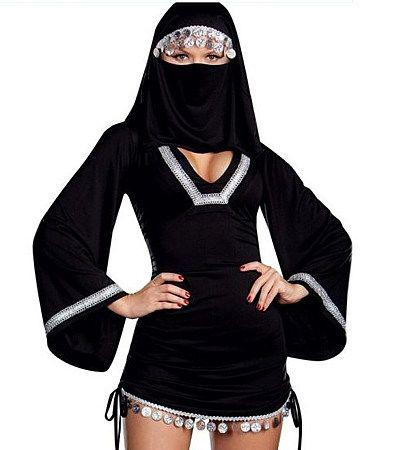OK: (164, 38, 232, 106)
